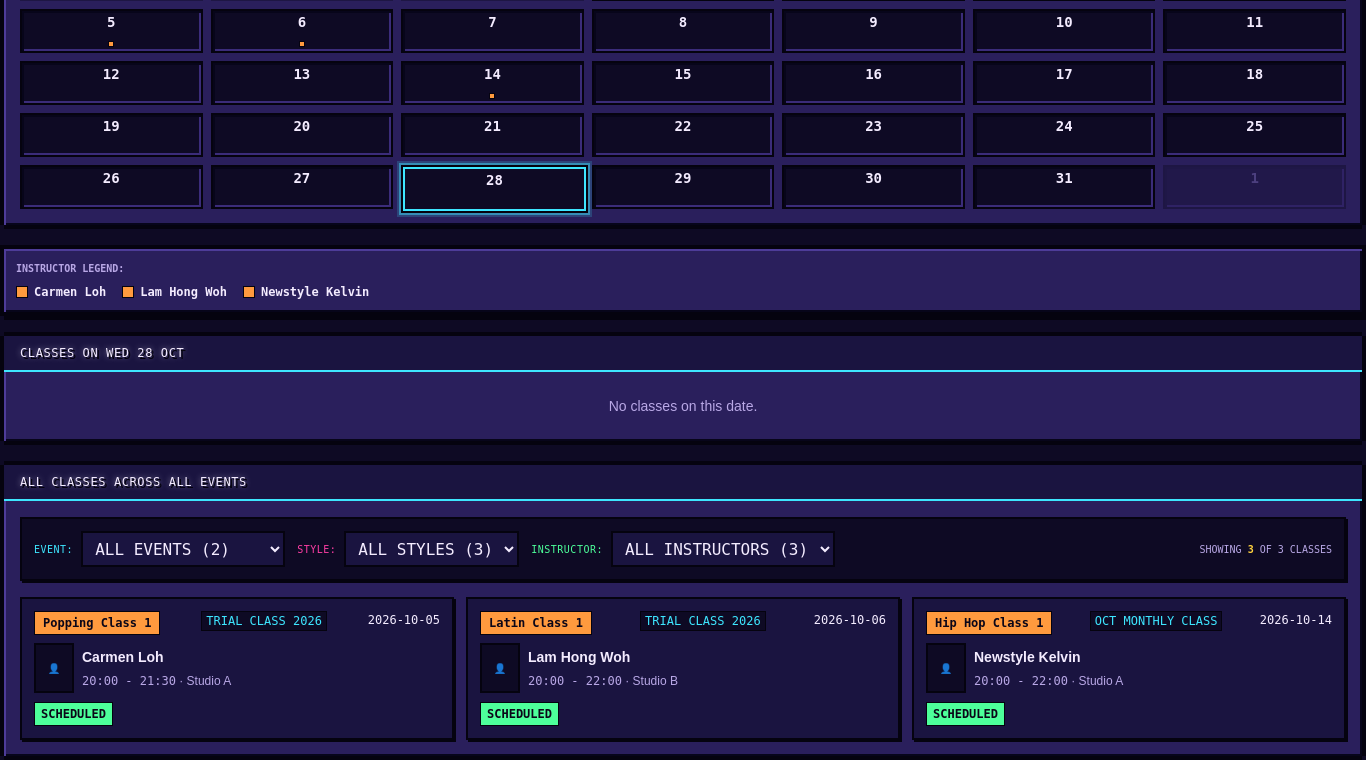
Test: ClassesPage Filter Component › filters classes by dance style
The image size is (1366, 760).
(page scrolled)
Check: the text "Popping Class 1" is shown, box [34,611,160,635]
// Select Popping
Select "Popping" in the dropdown named "Filter classes by dance style" at (432, 549), box [344,531,519,567]
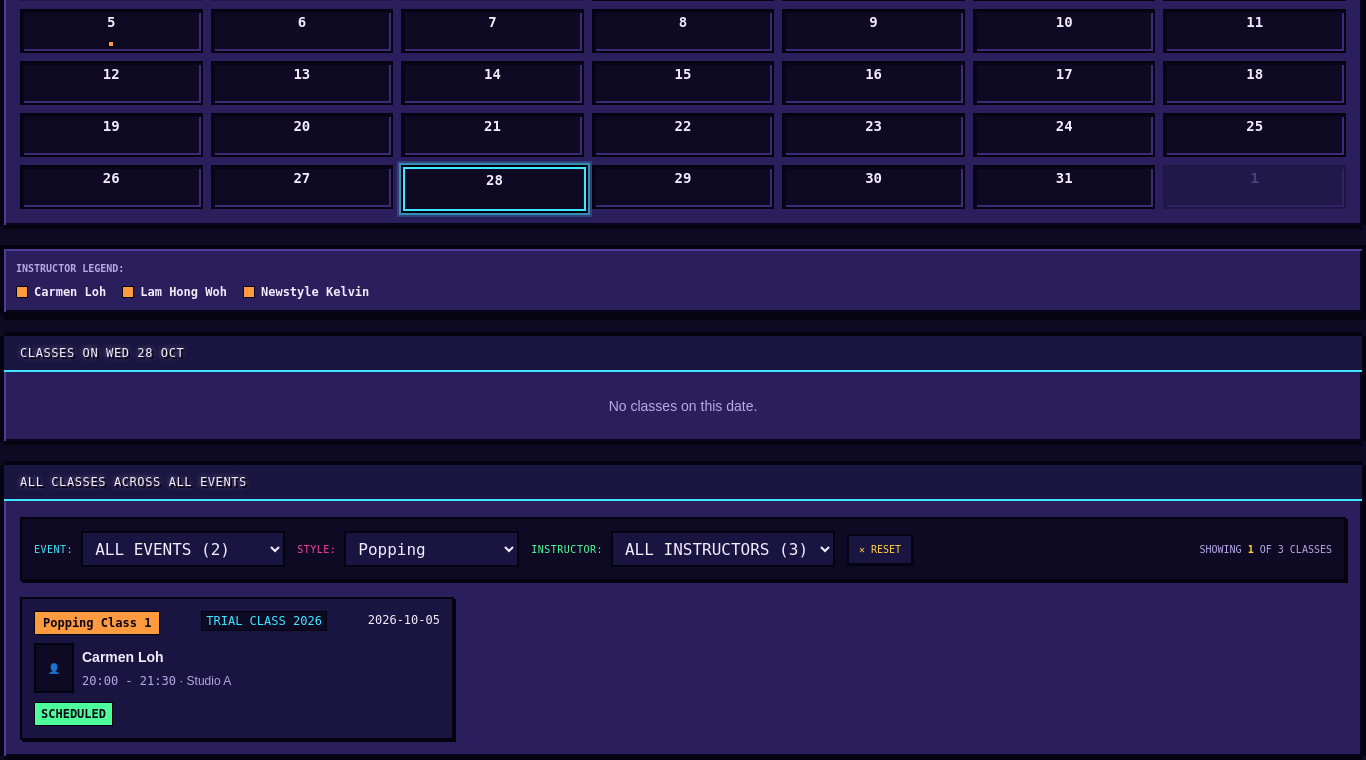
Check: the button "Latin Class 1" is gone
Check: the button "Hip Hop Class 1" is gone
Check: the element with test id "classes-count-badge" reads "SHOWING 1 OF 3 CLASSES", box [1200,542,1332,556]
